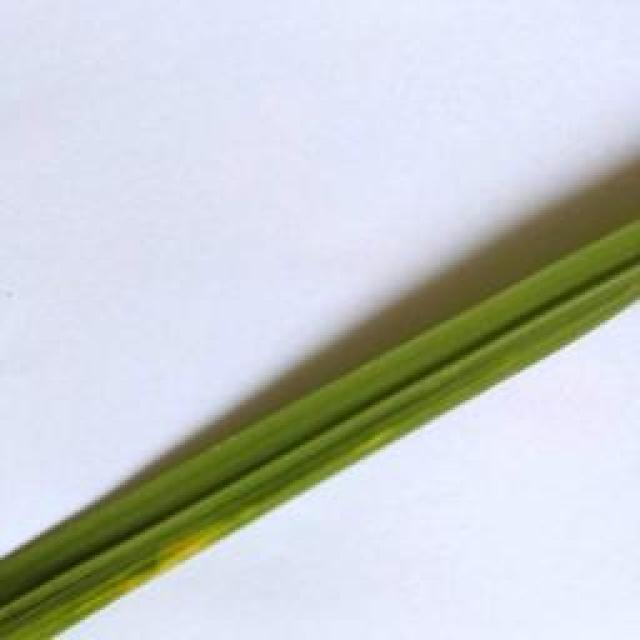Bacterial_Blight: (45, 410, 415, 632)
